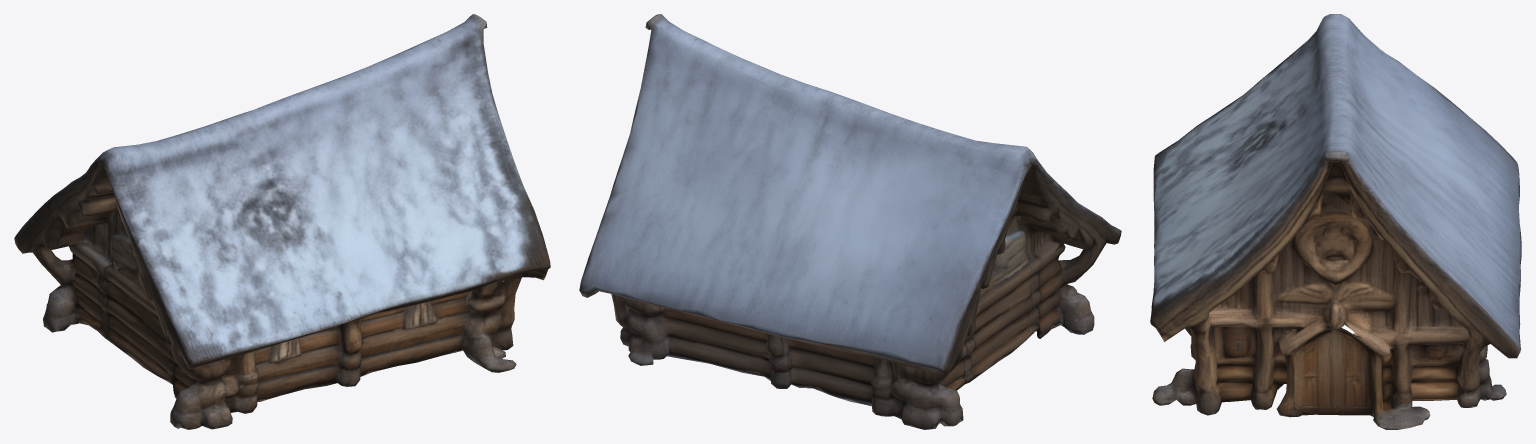
Rendered from longhouse.glb.
3 renders of one model, left to right at view 1: azimuth 30°, elevation 25°; view 2: azimuth 150°, elevation 25°; view 3: azimuth 270°, elevation 25°, orthographic.
Visible parts, largest first — view 1: geometry_0; view 2: geometry_0; view 3: geometry_0.
Boxes of the visible parts, x1,y1,x2,y2 form: geometry_0: [14, 14, 550, 429]; geometry_0: [579, 14, 1121, 429]; geometry_0: [1150, 14, 1521, 429].
Size of the model in its own units: 1 by 0.6878 by 0.8272.
Materials: 1 (1 with a texture image).
